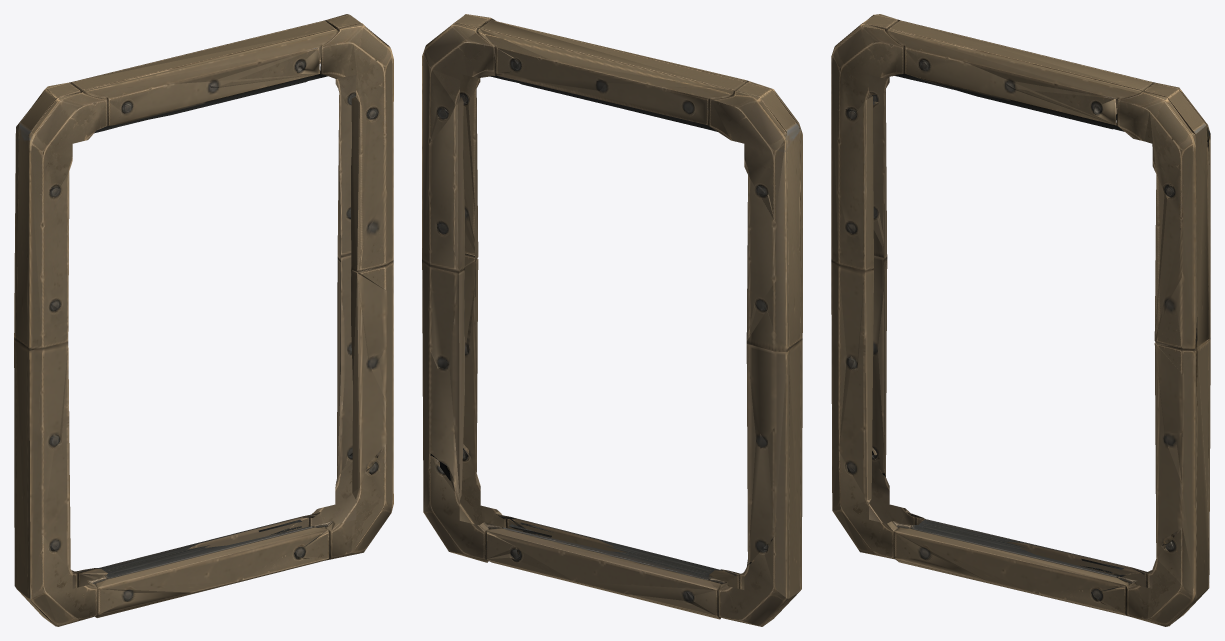
Rendered from lyuk-rama.glb.
The picture shows the model from 3 angles, left to right: view 1: azimuth 30°, elevation 25°; view 2: azimuth 150°, elevation 25°; view 3: azimuth 330°, elevation 25°; orthographic projection.
Parts seen in each view (by area): view 1: lyuk-rama; view 2: lyuk-rama; view 3: lyuk-rama.
Part boxes in pixels (<box>): lyuk-rama: <box>14,14,393,626</box>; lyuk-rama: <box>422,14,802,626</box>; lyuk-rama: <box>831,14,1210,626</box>.
Bounding box in the file's own units: 1.8 × 2.5 × 0.18.
Materials: 1 (1 with a texture image).
